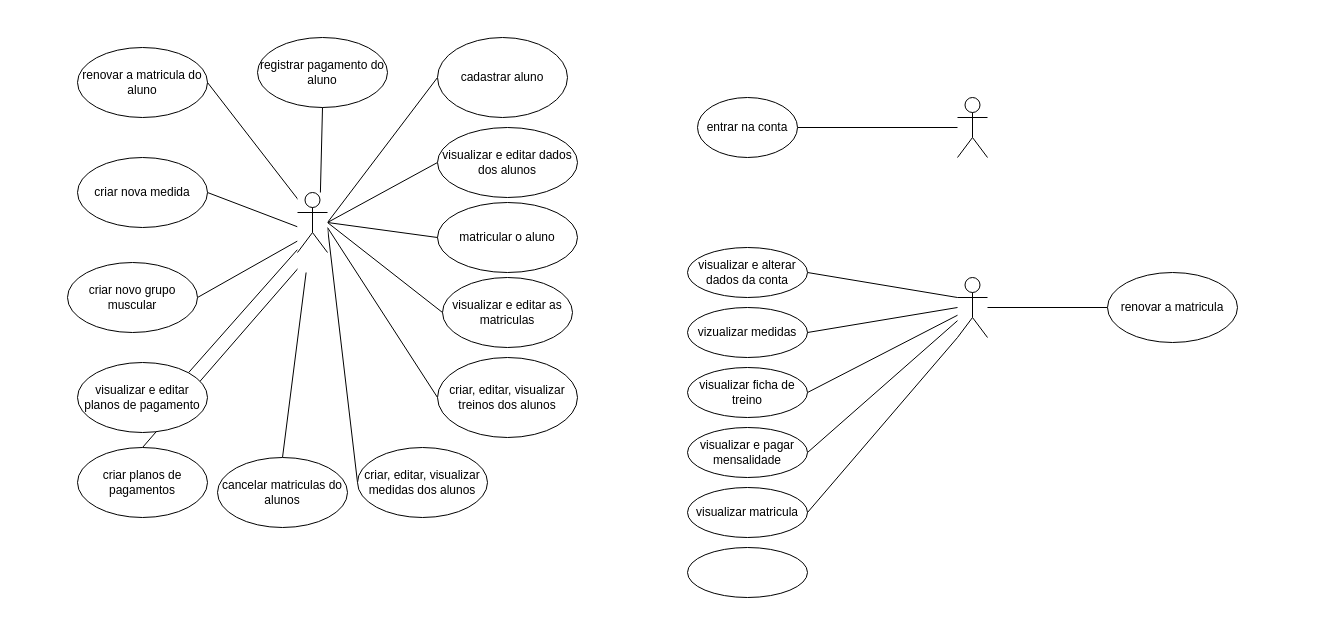
This 1324x644 diagram has some shape labels left out. Here are the shapes that lost their labels. From the top down, the centre of each, then its label:
At (972,127): "Visitante".
At (312,222): "adm".
At (972,307): "Cliente".
At (747,572): "visualizar planos de pagamento".
